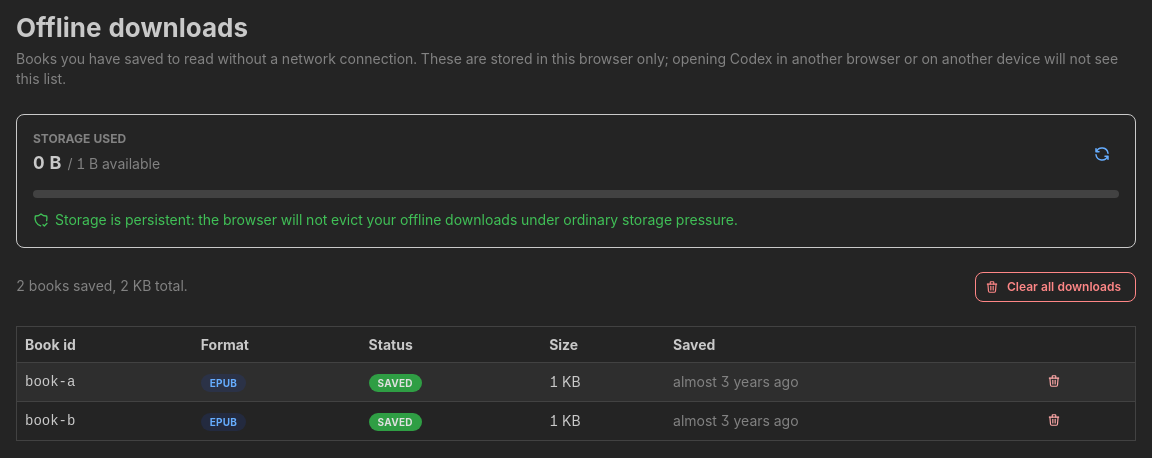
Test: DownloadsSettings: remove flow › removing a book deletes its IDB row and refreshes the list
Click the button named "Remove offline copy of book-a": (1054, 381) top-left (1043, 370), bottom-right (1065, 392)
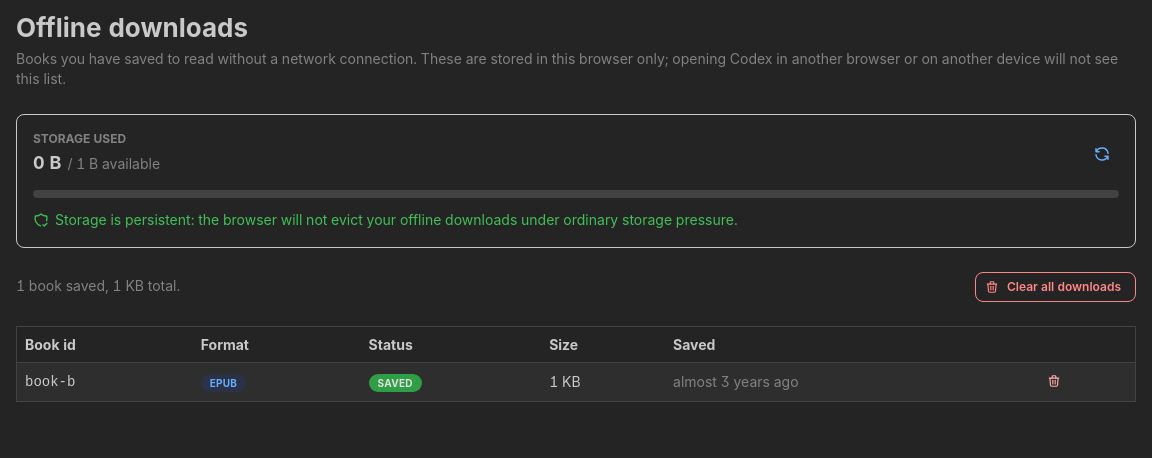
Expected: the text "book-b" is shown, top-left (25, 374), bottom-right (75, 390)
Now the text "book-a" is gone
